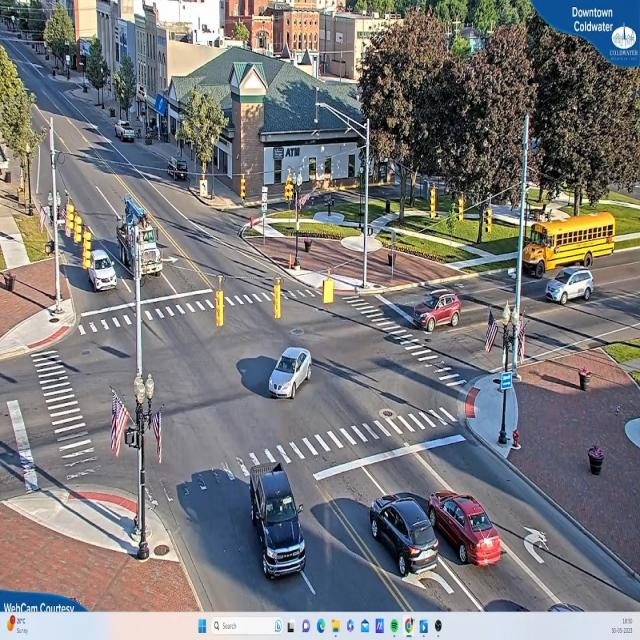bus: (518, 210, 620, 280)
car: (250, 462, 306, 580), (369, 492, 442, 578), (426, 491, 506, 568), (269, 347, 313, 401), (413, 290, 463, 334), (84, 246, 119, 301), (546, 267, 596, 303), (118, 120, 138, 143)
truck: (116, 190, 162, 288)
